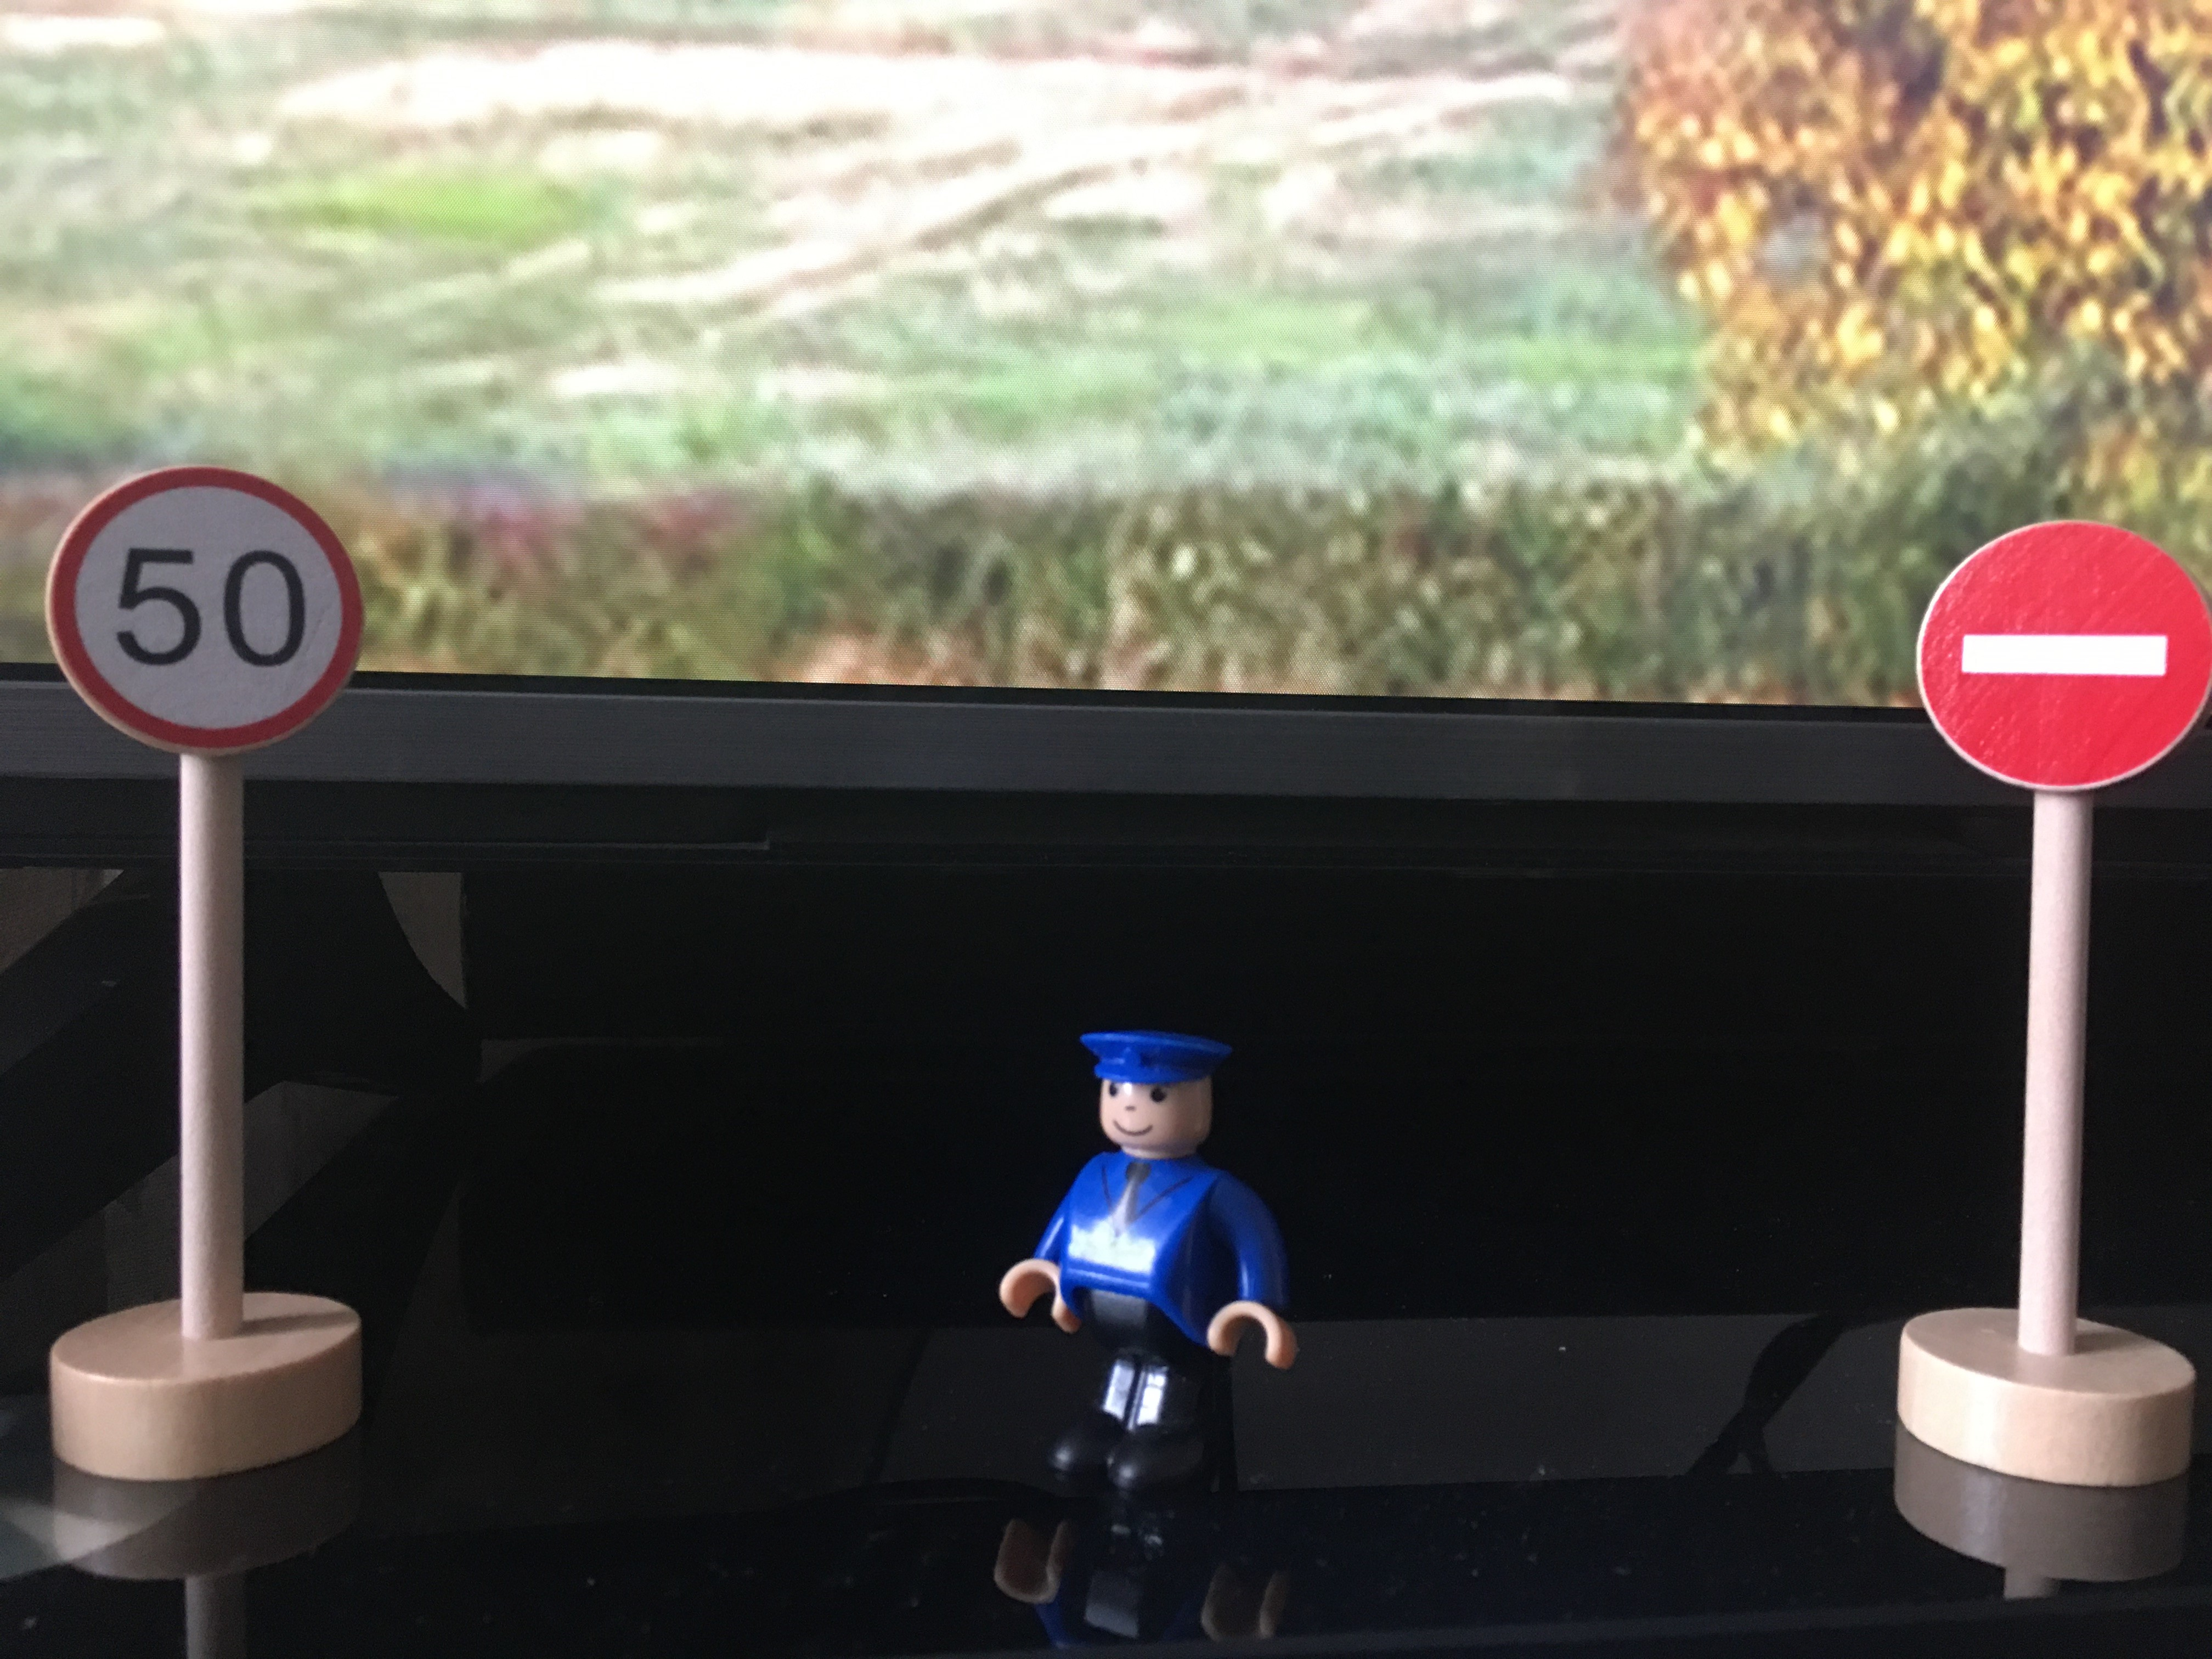Traffic_Sign_50: (44, 467, 365, 748)
Traffic_Sign_No_Entry: (1908, 517, 2212, 782)
person: (988, 1005, 1303, 1522)
